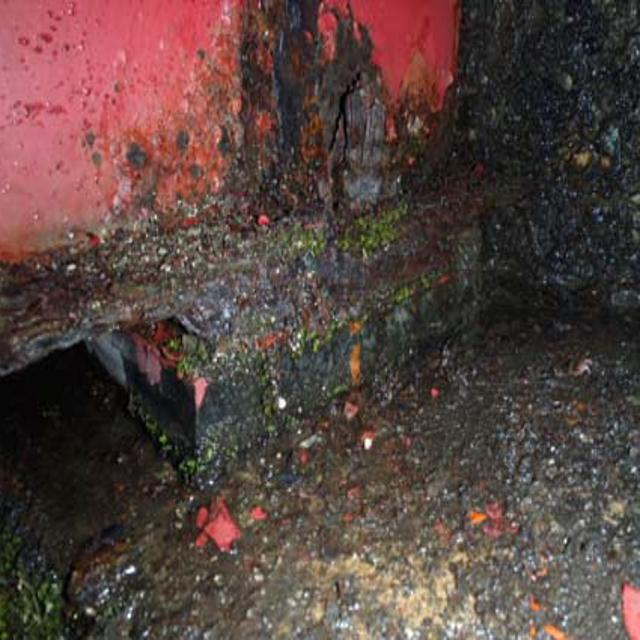corrosion: (40, 13, 456, 341)
